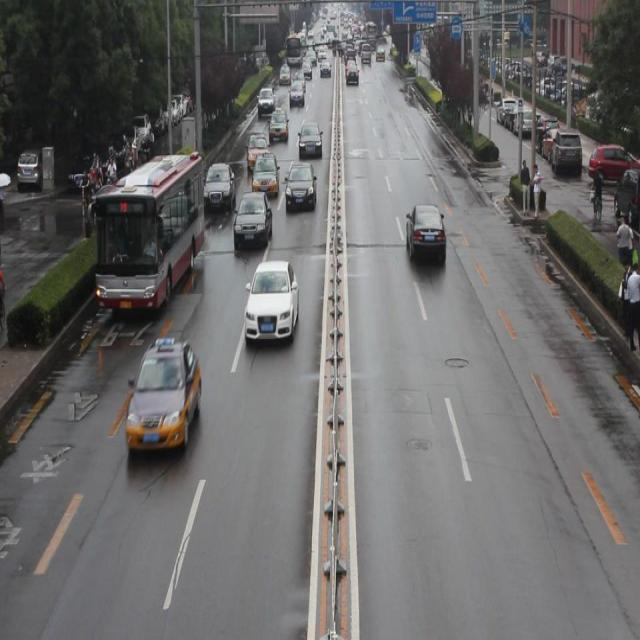car: (124, 334, 201, 452), (244, 260, 298, 344), (92, 183, 149, 228), (405, 203, 445, 263), (233, 189, 272, 250), (283, 160, 317, 212), (204, 161, 235, 211), (252, 153, 279, 195), (298, 120, 322, 158), (246, 133, 270, 168), (267, 106, 289, 142), (257, 87, 275, 116)
van: (96, 150, 205, 313)
